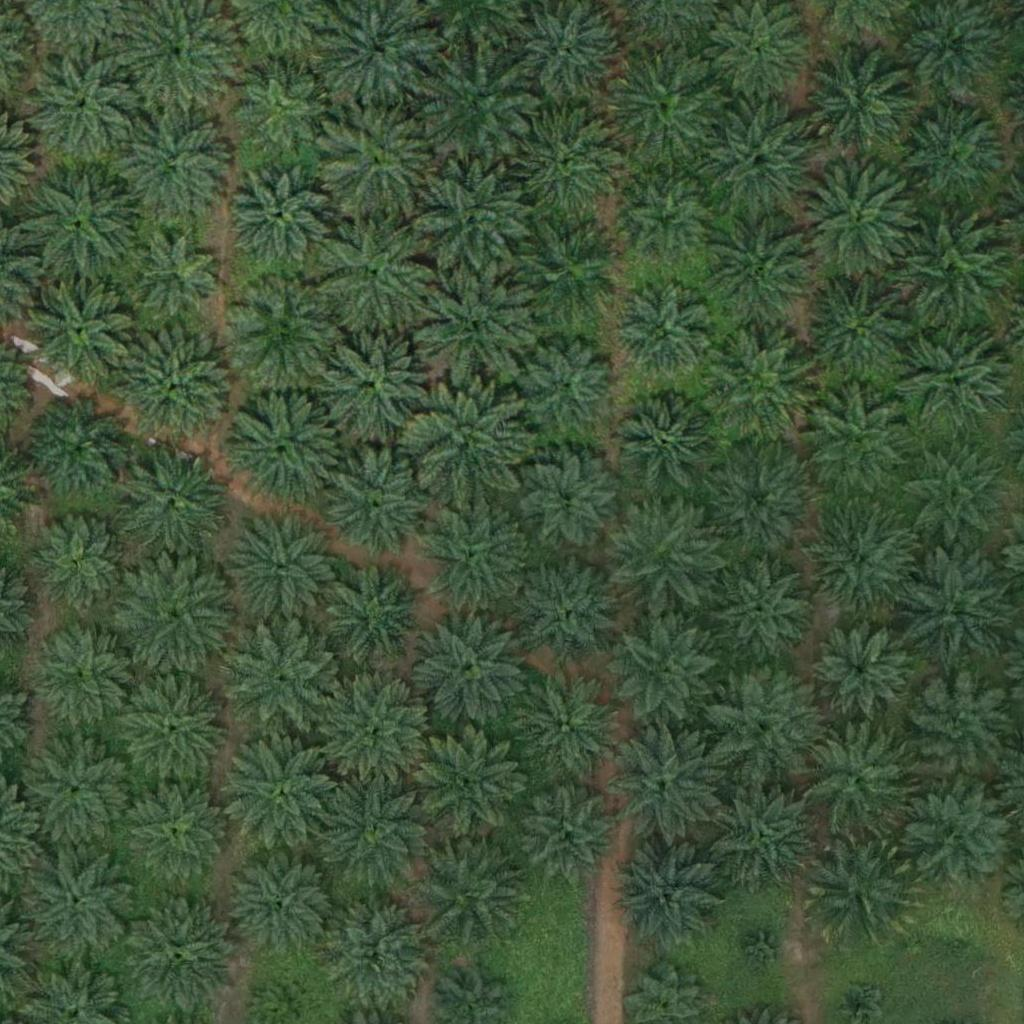Kelapa_Sawit: (420, 44, 533, 158), (705, 210, 818, 324), (803, 386, 916, 500), (896, 441, 1009, 555), (898, 551, 1011, 665), (806, 506, 919, 620), (320, 895, 433, 1009), (226, 736, 339, 850), (21, 51, 134, 164), (24, 165, 137, 278), (25, 270, 138, 383), (119, 330, 232, 443), (229, 389, 342, 502), (320, 105, 433, 218), (415, 164, 528, 277), (417, 270, 530, 383), (411, 385, 524, 498), (609, 43, 722, 156), (706, 103, 819, 216), (800, 164, 913, 277), (802, 273, 915, 386), (902, 672, 1015, 785), (610, 616, 723, 729), (610, 729, 723, 842), (613, 844, 726, 957), (508, 665, 621, 778), (324, 676, 437, 789), (318, 771, 431, 884), (225, 511, 338, 624), (229, 627, 342, 740), (116, 446, 229, 559), (121, 560, 234, 673), (516, 103, 628, 217), (706, 335, 818, 449), (122, 674, 234, 788), (804, 833, 916, 946), (116, 112, 228, 225), (228, 275, 340, 388), (322, 217, 434, 330), (320, 323, 432, 436), (513, 218, 625, 331), (702, 444, 814, 557), (803, 44, 915, 157), (893, 97, 1005, 210), (892, 213, 1004, 326), (900, 327, 1012, 440), (907, 779, 1019, 892), (802, 723, 914, 836), (702, 669, 814, 782), (706, 776, 818, 889), (605, 498, 717, 611), (417, 502, 529, 615), (414, 613, 526, 726), (419, 725, 531, 838), (418, 832, 530, 945), (324, 447, 436, 560), (124, 900, 236, 1013), (23, 737, 135, 850), (27, 847, 139, 960), (27, 397, 127, 498), (127, 230, 227, 331), (231, 52, 331, 153), (227, 163, 327, 264), (517, 335, 617, 436), (519, 454, 619, 555), (619, 396, 719, 497), (811, 620, 911, 721), (713, 561, 813, 662), (519, 558, 619, 659), (520, 785, 620, 886), (329, 564, 429, 665), (614, 283, 714, 383), (234, 853, 334, 953), (127, 784, 227, 884), (28, 516, 128, 616), (33, 630, 133, 730), (620, 180, 708, 268), (740, 923, 790, 974), (931, 916, 981, 966)
